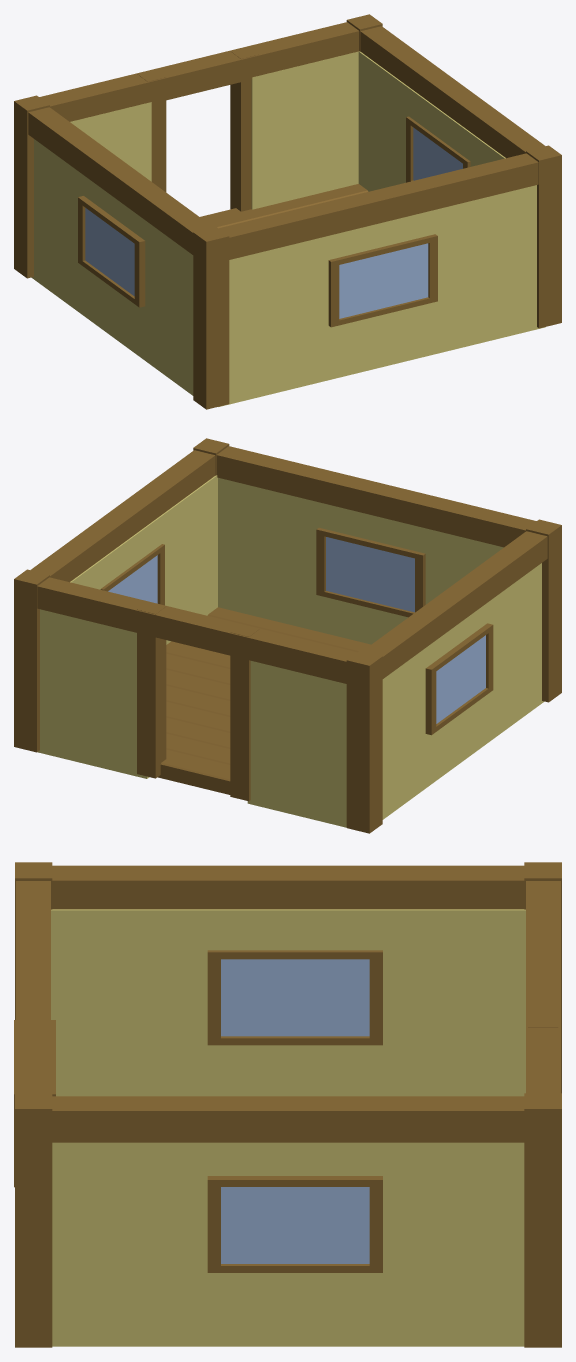
File: House3.fbx
3 renders of one model, top to bottom at view 1: azimuth 30°, elevation 25°; view 2: azimuth 150°, elevation 25°; view 3: azimuth 270°, elevation 25°, orthographic. The views are drawn at different scales.
Parts seen in each view (by area): view 1: Cube.019, Cube.018, Cube.021, Cube.008, Cube.007, Cube.014, Cube.015, Cube.009, Cube.010, Cube.003, Cube.004, Cube.001 (+4 smaller); view 2: Cube.018, Cube.019, Cube.021, Cube.022, Cube, Cube.008, Cube.007, Cube.014, Cube.009, Cube.015, Cube.010, Cube.001 (+4 smaller); view 3: Cube.018, Cube.015, Cube.010, Cube.009, Cube.002, Cube.004, Cube.008, Cube.007, Cube.001, Cube.003, Cube.014.
Part boxes in pixels (bbox=[...]): Cube.019: bbox=[218, 185, 545, 406]; Cube.018: bbox=[31, 51, 505, 395]; Cube.021: bbox=[251, 51, 358, 209]; Cube.008: bbox=[219, 153, 538, 259]; Cube.007: bbox=[39, 22, 359, 121]; Cube.014: bbox=[328, 234, 437, 327]; Cube.015: bbox=[78, 116, 470, 307]; Cube.009: bbox=[28, 107, 212, 254]; Cube.010: bbox=[360, 26, 545, 158]; Cube.003: bbox=[193, 226, 229, 409]; Cube.004: bbox=[526, 145, 561, 328]; Cube.001: bbox=[14, 95, 49, 278]; Cube.018: bbox=[70, 475, 544, 819]; Cube.019: bbox=[218, 477, 503, 644]; Cube.021: bbox=[37, 609, 149, 778]; Cube.022: bbox=[247, 661, 346, 827]; Cube: bbox=[158, 607, 370, 794]; Cube.008: bbox=[216, 446, 536, 547]; Cube.007: bbox=[37, 577, 356, 683]; Cube.014: bbox=[316, 527, 425, 617]; Cube.009: bbox=[363, 531, 547, 678]; Cube.015: bbox=[100, 544, 493, 735]; Cube.010: bbox=[30, 450, 215, 582]; Cube.001: bbox=[346, 650, 382, 833]; Cube.018: bbox=[51, 909, 525, 1346]; Cube.015: bbox=[207, 950, 382, 1272]; Cube.010: bbox=[52, 1096, 524, 1142]; Cube.009: bbox=[52, 865, 524, 909]; Cube.002: bbox=[524, 1093, 561, 1347]; Cube.004: bbox=[15, 1093, 52, 1347]; Cube.008: bbox=[16, 881, 50, 1093]; Cube.007: bbox=[526, 881, 560, 1093]; Cube.001: bbox=[524, 862, 561, 1093]; Cube.003: bbox=[15, 862, 52, 1019]; Cube.014: bbox=[14, 1020, 55, 1187].
Bounding box in the file's own units: 326 × 149 × 306.
